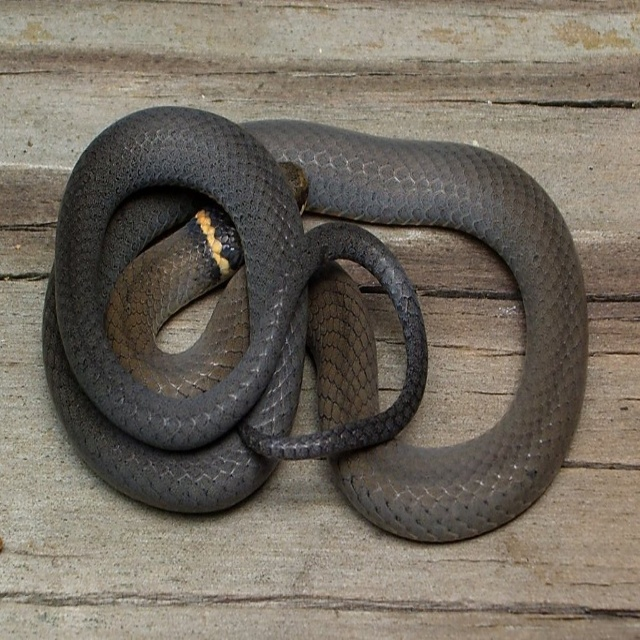Snake: (46, 107, 591, 540)
